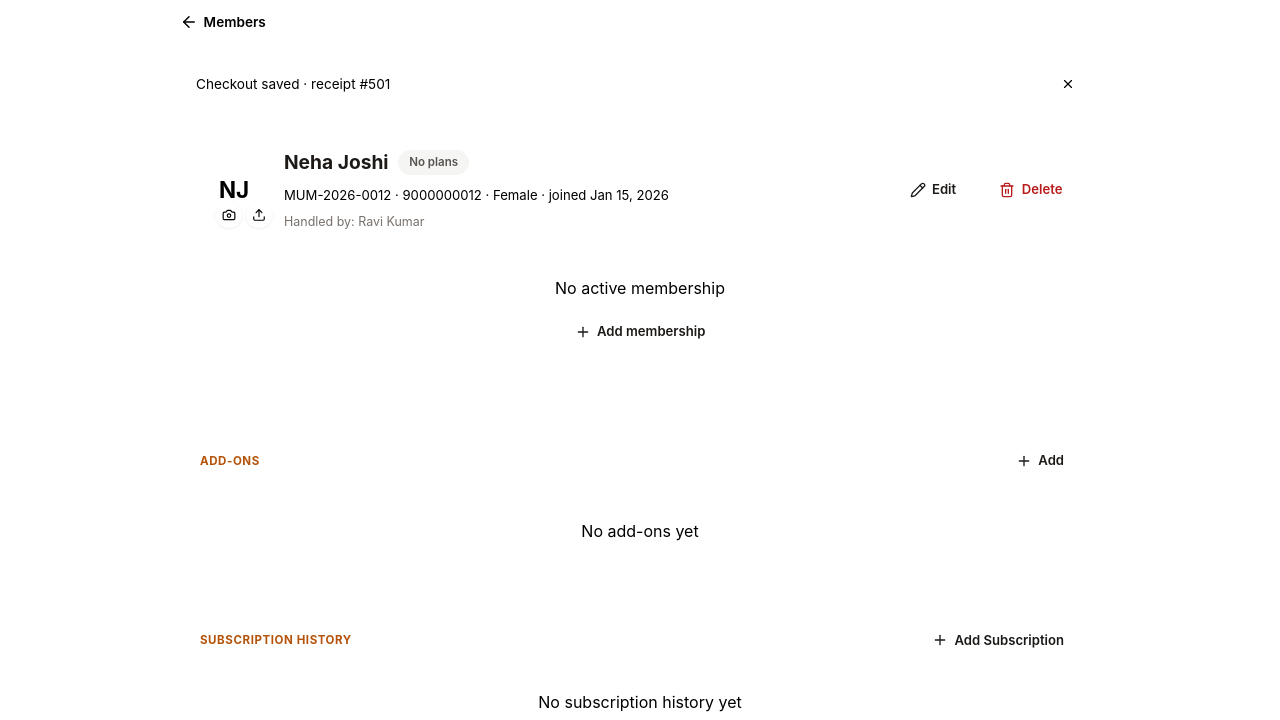
Test: MemberDetailPage — data states › shows the receipt toast Renew hands over, and it can be dismissed
This screenshot has width=1280, height=720.
Expected: the text "Checkout saved · receipt #501" is shown, [196,68,1084,100]
Click the button named "Dismiss". click: [1068, 84]
box: [1052,68,1084,100]
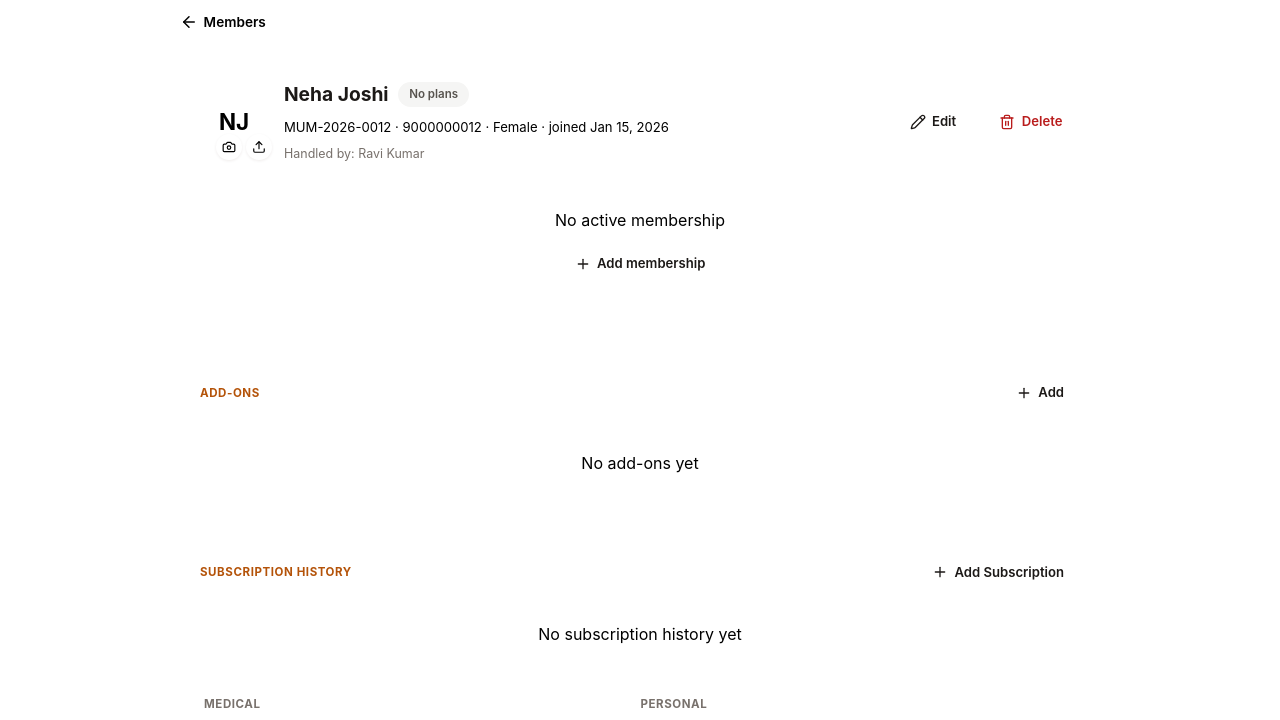
Now the text "Checkout saved · receipt #501" is gone
